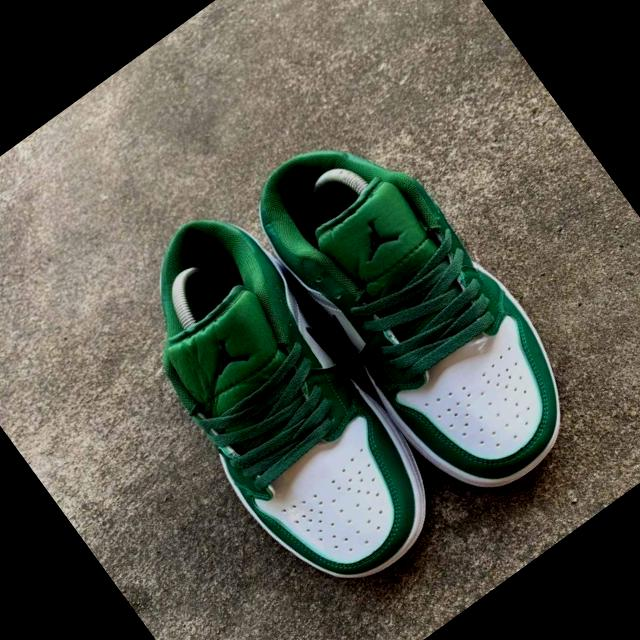nike_fake_jordan: (86, 186, 473, 620), (232, 96, 606, 519)
